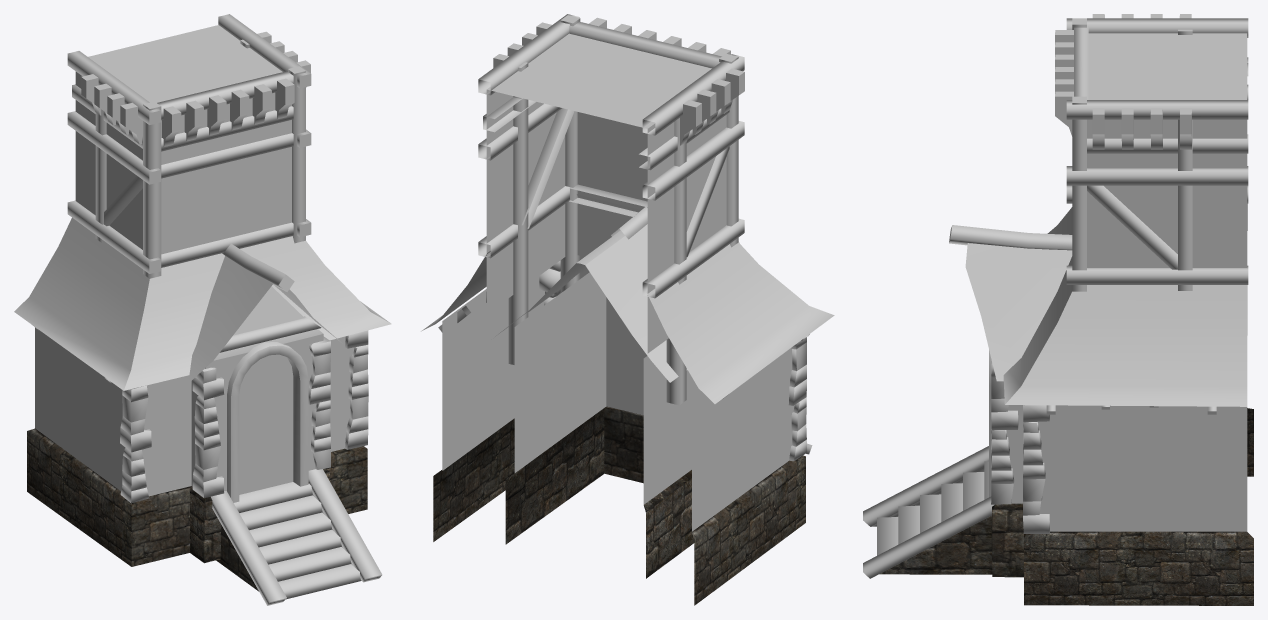
The model's file is Addon3_LOD1.fbx.
3 renders of one model, left to right at view 1: azimuth 30°, elevation 25°; view 2: azimuth 150°, elevation 25°; view 3: azimuth 270°, elevation 25°, orthographic. The views are drawn at different scales.
Visible parts, largest first — view 1: polySurface2648; view 2: polySurface2648; view 3: polySurface2648.
Boxes of the visible parts, box(x1,y1,x2,y2) form: polySurface2648: box(14, 14, 391, 605); polySurface2648: box(421, 14, 834, 605); polySurface2648: box(863, 14, 1253, 605).
Size of the model in its own units: 8.81 by 13.72 by 9.96.
